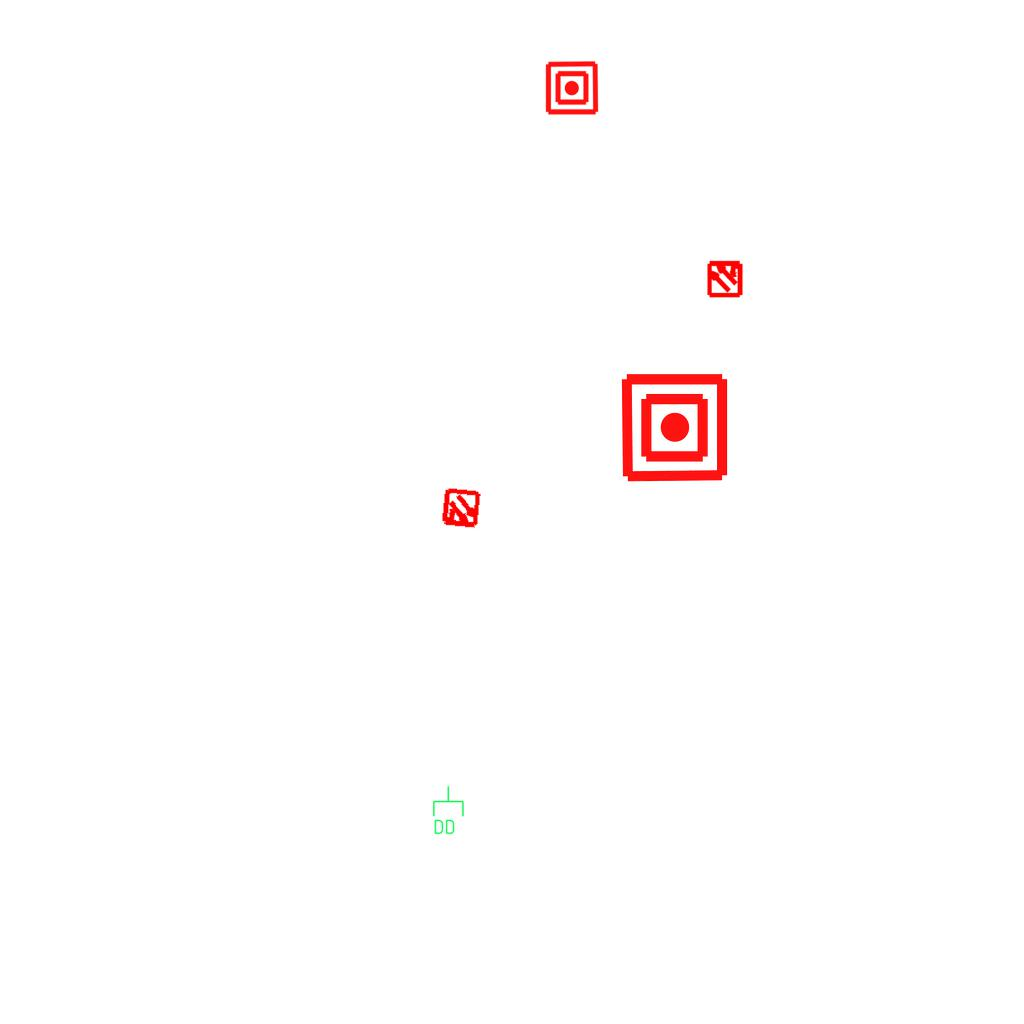Datenanschluss_zweifach: (431, 785, 465, 836)
NAM-Nichtautomatischer_Melder: (618, 371, 731, 484), (544, 60, 600, 116)
OT_Multisensormelder_(Kombination_RMO_WMD): (430, 478, 492, 540), (697, 250, 753, 306)
